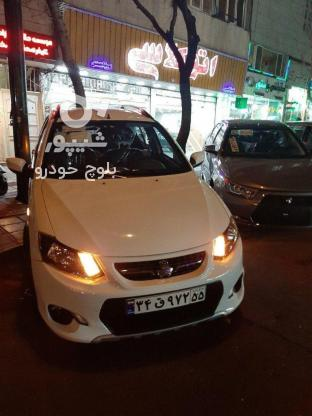car: (124, 286, 206, 314)
